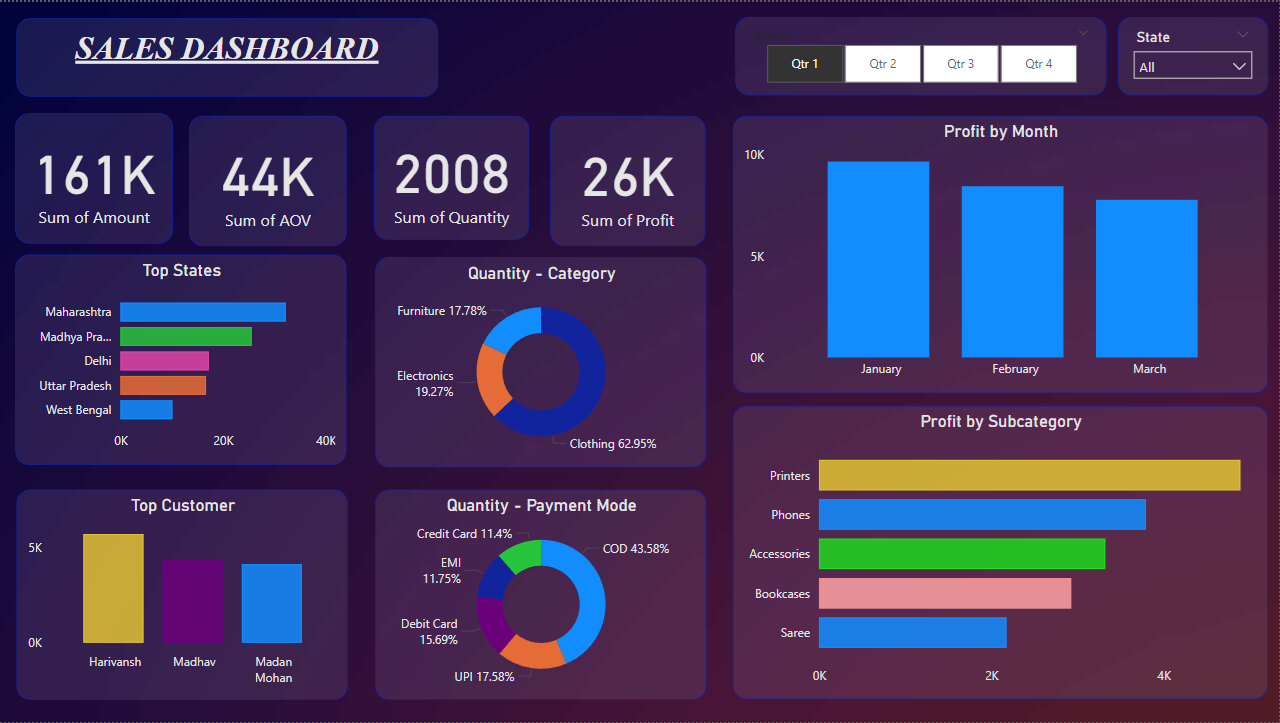

Layout of this report page (visuals, bound fields, positions):
{"tool":"powerbi","page":{"name":"Page 1","canvas":[1280,720],"ordinal":0},"visuals":[{"type":"textbox","box":[17.5,16.2,421.2,78.8],"z":0},{"type":"barChart","title":"Profit by Subcategory","fields":{"Category":["Details.Sub-Category"],"Y":["Details.Profit"]},"box":[733.8,403.8,535,293.8],"z":1000},{"type":"columnChart","title":"Profit by Month","fields":{"Y":["Details.Profit"],"Category":["Orders.Order Date.Variation.Date Hierarchy.Month"]},"box":[733.8,113.8,535,277.5],"z":2000},{"type":"donutChart","title":"Quantity - Category","fields":{"Category":["Details.Category"],"Y":["Details.Quantity"]},"box":[376.2,255,331.2,210],"z":3000},{"type":"donutChart","title":"Quantity - Payment Mode","fields":{"Category":["Details.PaymentMode"],"Y":["Details.Quantity"]},"box":[376.2,487.5,331.2,210],"z":4000},{"type":"card","fields":{"Values":["Details.Amount"]},"box":[16.2,111.2,157.5,130],"z":5000},{"type":"card","fields":{"Values":["Details.Profit"]},"box":[551.2,113.8,155,130],"z":6000},{"type":"card","fields":{"Values":["Details.Quantity"]},"box":[375,113.8,155,123.8],"z":7000},{"type":"card","fields":{"Values":["Details.AOV"]},"box":[190,113.8,157.5,130],"z":8000},{"type":"clusteredBarChart","title":"Top States","fields":{"Category":["Orders.State"],"Y":["Details.Amount"]},"box":[16.2,252.5,331.2,210],"z":9000},{"type":"columnChart","title":"Top Customer","fields":{"Category":["Orders.CustomerName"],"Y":["Details.Amount"]},"box":[17.5,487.5,331.2,210],"z":10000},{"type":"slicer","fields":{"Values":["Orders.Order Date.Variation.Date Hierarchy.Quarter"]},"box":[736.2,15,371.2,78.8],"z":11000},{"type":"slicer","fields":{"Values":["Orders.State"]},"box":[1118.8,15,150,78.8],"z":12000}]}

Visuals, with their boxes in screenshot pixels (x1, y1, x2, y2), scaled from the page's 1280x720 canvas onto the 1280x723 screenshot:
textbox: 18/16/439/95
"Profit by Subcategory" barChart: 734/405/1269/701
"Profit by Month" columnChart: 734/114/1269/393
"Quantity - Category" donutChart: 376/256/707/467
"Quantity - Payment Mode" donutChart: 376/490/707/700
card - Details.Amount: 16/112/174/242
card - Details.Profit: 551/114/706/245
card - Details.Quantity: 375/114/530/239
card - Details.AOV: 190/114/348/245
"Top States" clusteredBarChart: 16/254/347/464
"Top Customer" columnChart: 18/490/349/700
slicer - Orders.Order Date.Variation.Date Hierarchy.Quarter: 736/15/1107/94
slicer - Orders.State: 1119/15/1269/94
